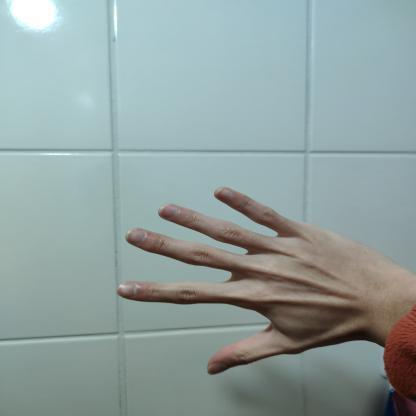bare_hand: (108, 178, 410, 378)
